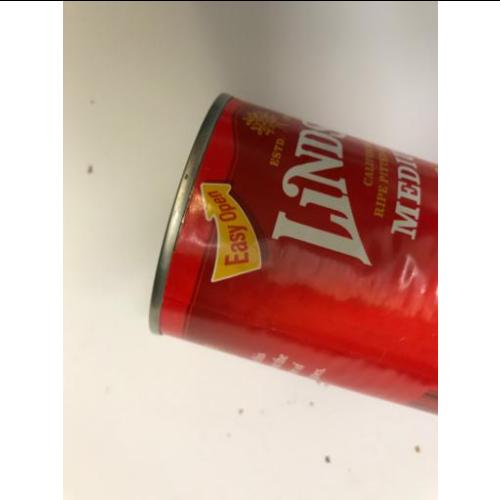metal: (149, 92, 436, 416)
